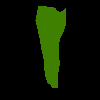jeans: (35, 5, 66, 88)
